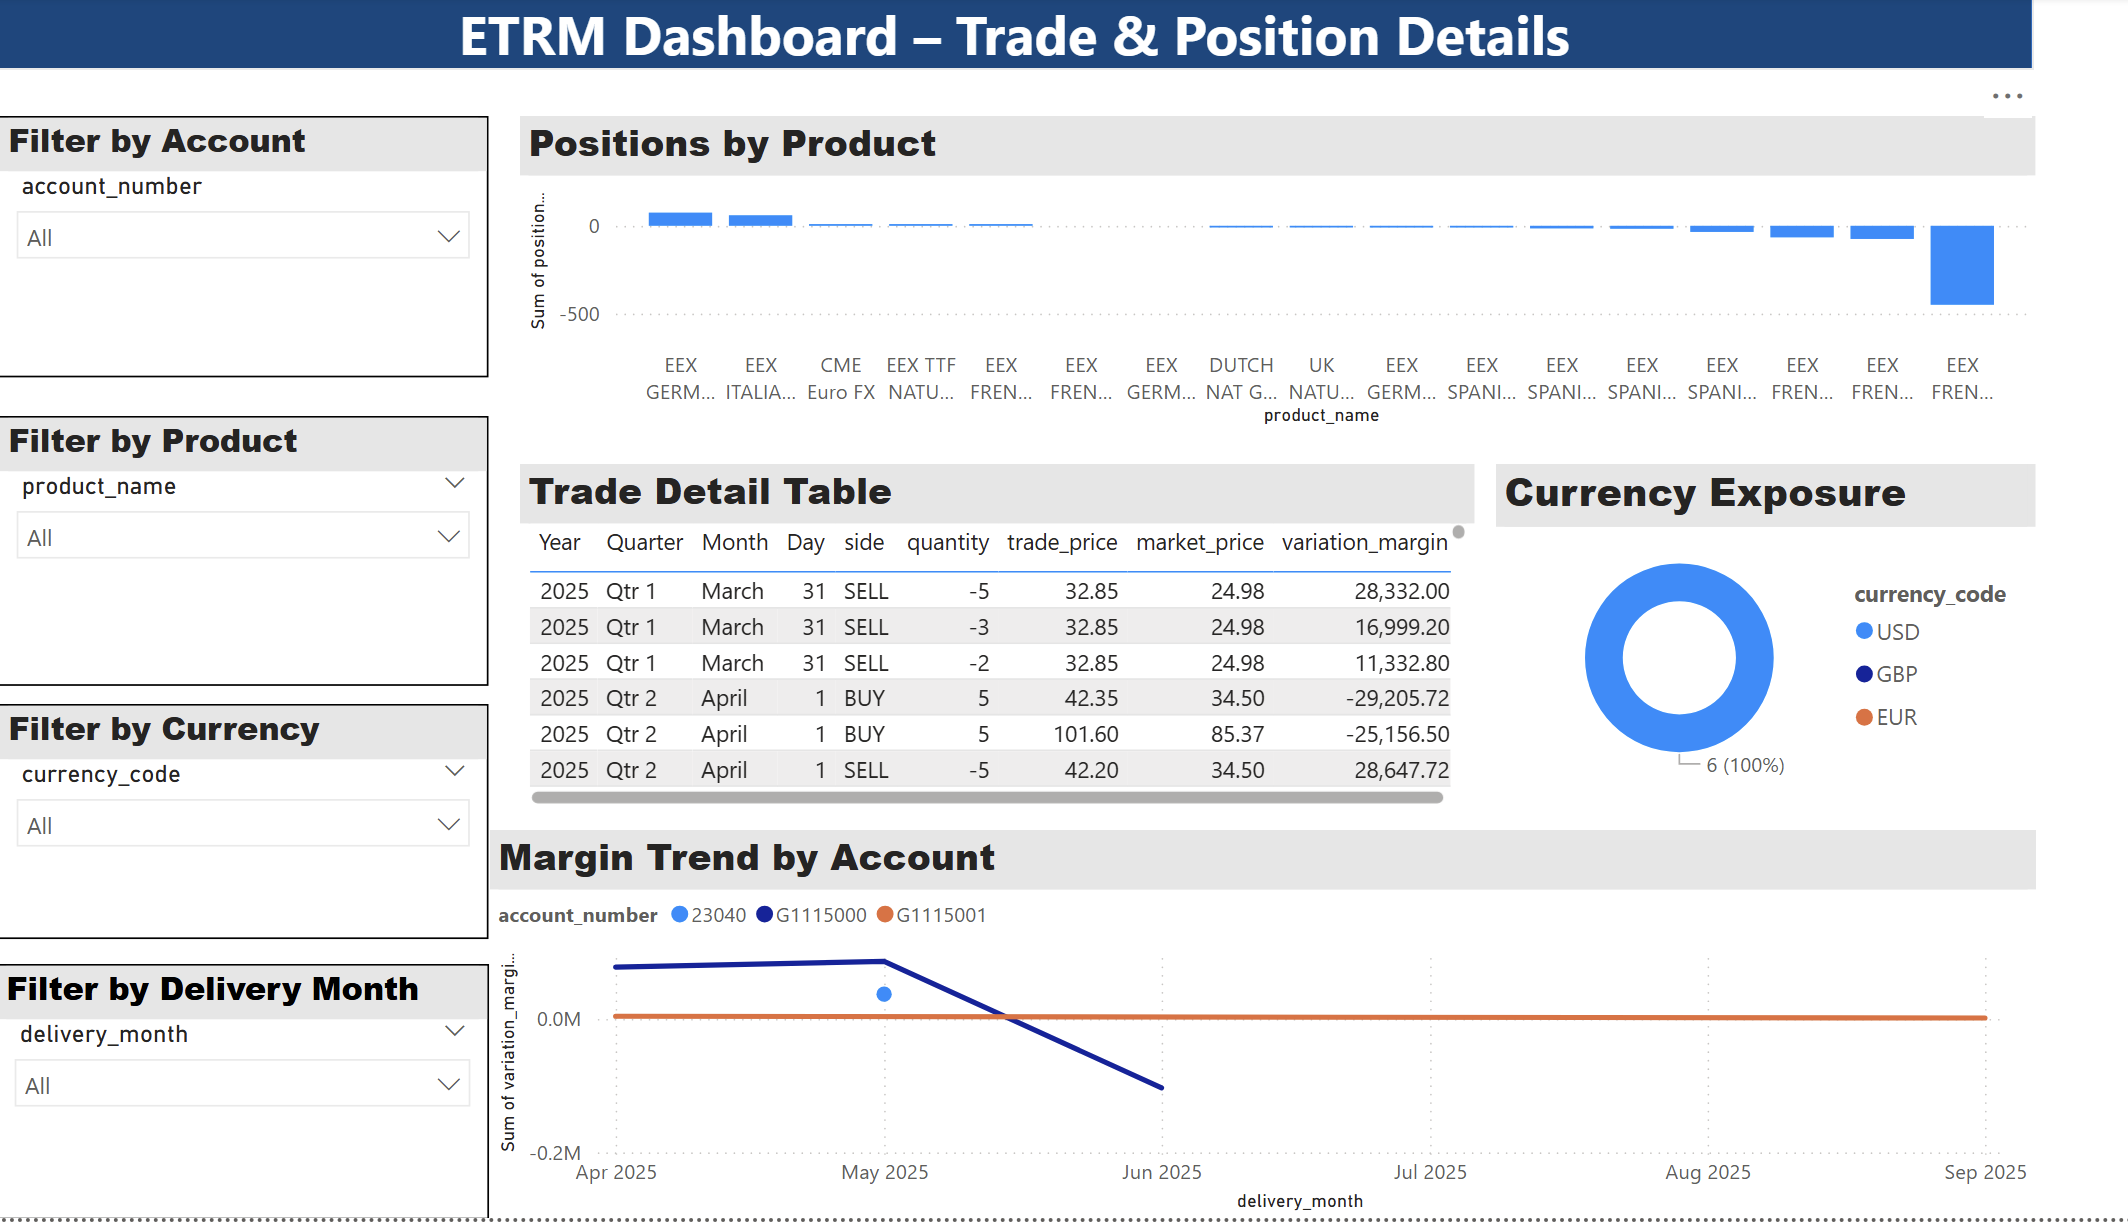

The dashboard page shown, as its layout file describes it:
{"tool":"powerbi","page":{"name":"Trade & Position Details","canvas":[1280,720],"ordinal":1},"visuals":[{"type":"lineClusteredColumnComboChart","title":"Positions by Product","fields":{"Category":["v_positions.product_name"],"Y":["Sum(v_positions.position_qty)"]},"box":[321.7,71.1,892.8,186.7],"z":0},{"type":"donutChart","title":"Currency Exposure","fields":{"Category":["v_positions.currency_code"],"Y":["Sum(v_positions.position_qty)"]},"box":[896.4,275.9,318.1,196.4],"z":1000},{"type":"slicer","title":"Filter by Account","fields":{"Values":["v_positions.account_number"]},"box":[14.5,71.1,289.2,154.2],"z":2000},{"type":"slicer","title":"Filter by Product","fields":{"Values":["v_positions.product_name"]},"box":[14.5,247,289.2,159],"z":3000},{"type":"slicer","title":"Filter by Currency","fields":{"Values":["v_positions.currency_code"]},"box":[14.5,416.9,289.2,138.6],"z":4000},{"type":"slicer","title":"Filter by Delivery Month","fields":{"Values":["v_positions.delivery_month"]},"box":[13.3,569.9,290.4,150.6],"z":5000},{"type":"tableEx","title":"Trade Detail Table","fields":{"Values":["trades.trade_date.Variation.Date Hierarchy.Year","trades.trade_date.Variation.Date Hierarchy.Quarter","trades.trade_date.Variation.Date Hierarchy.Month","trades.trade_date.Variation.Date Hierarchy.Day","trades.side","trades.quantity","trades.trade_price","trades.market_price","trades.variation_margin"]},"box":[321.7,275.9,562.7,206],"z":6000},{"type":"lineChart","title":"Margin Trend by Account","fields":{"Category":["v_positions.delivery_month Hierarchy.delivery_month"],"Y":["Sum(v_positions.variation_margin_total)"],"Series":["v_positions.account_number"]},"box":[303.6,491.6,910.8,228.9],"z":7000},{"type":"shape","box":[13.3,0,1200,43.4],"z":7001}]}

Visuals, with their boxes in screenshot pixels (x1, y1, x2, y2), scaled from the page's 1280x720 canvas onto the 2128x1224 screenshot:
"Positions by Product" lineClusteredColumnComboChart: <region>535, 121, 2019, 438</region>
"Currency Exposure" donutChart: <region>1490, 469, 2019, 803</region>
"Filter by Account" slicer: <region>24, 121, 505, 383</region>
"Filter by Product" slicer: <region>24, 420, 505, 690</region>
"Filter by Currency" slicer: <region>24, 709, 505, 944</region>
"Filter by Delivery Month" slicer: <region>22, 969, 505, 1223</region>
"Trade Detail Table" tableEx: <region>535, 469, 1470, 819</region>
"Margin Trend by Account" lineChart: <region>505, 836, 2019, 1223</region>
shape: <region>22, 0, 2017, 74</region>
